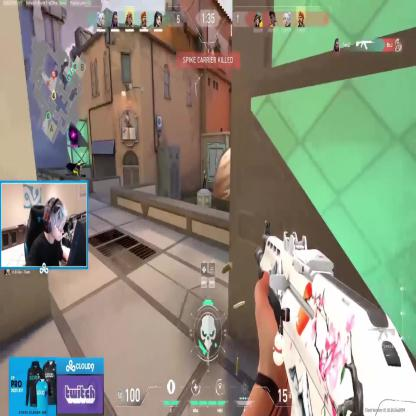enemy: (202, 170, 207, 192)
enemy_head: (204, 171, 206, 176)
